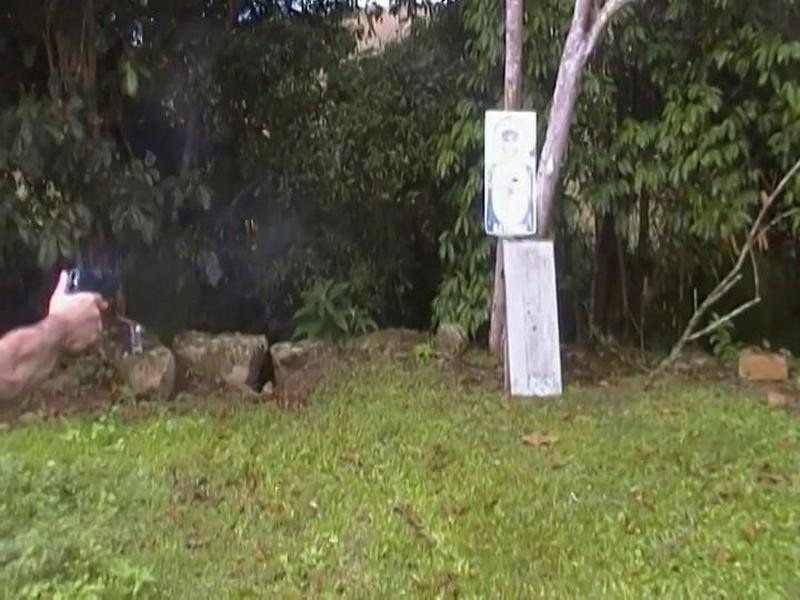Pistola: (50, 241, 145, 321)
